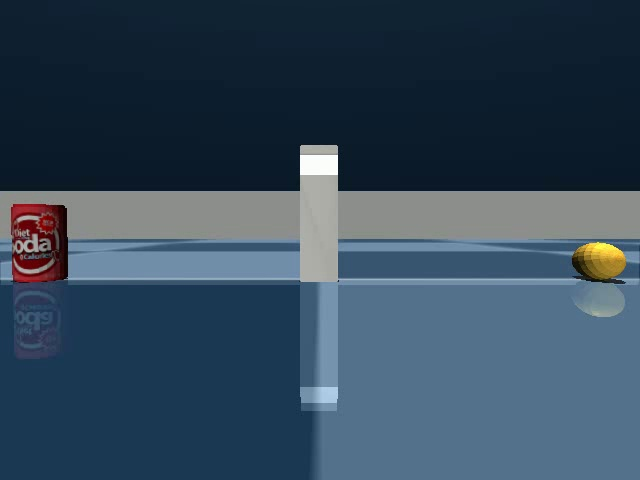can: (6, 198, 76, 287)
lemon: (567, 239, 631, 286)
milk: (291, 135, 346, 290)
